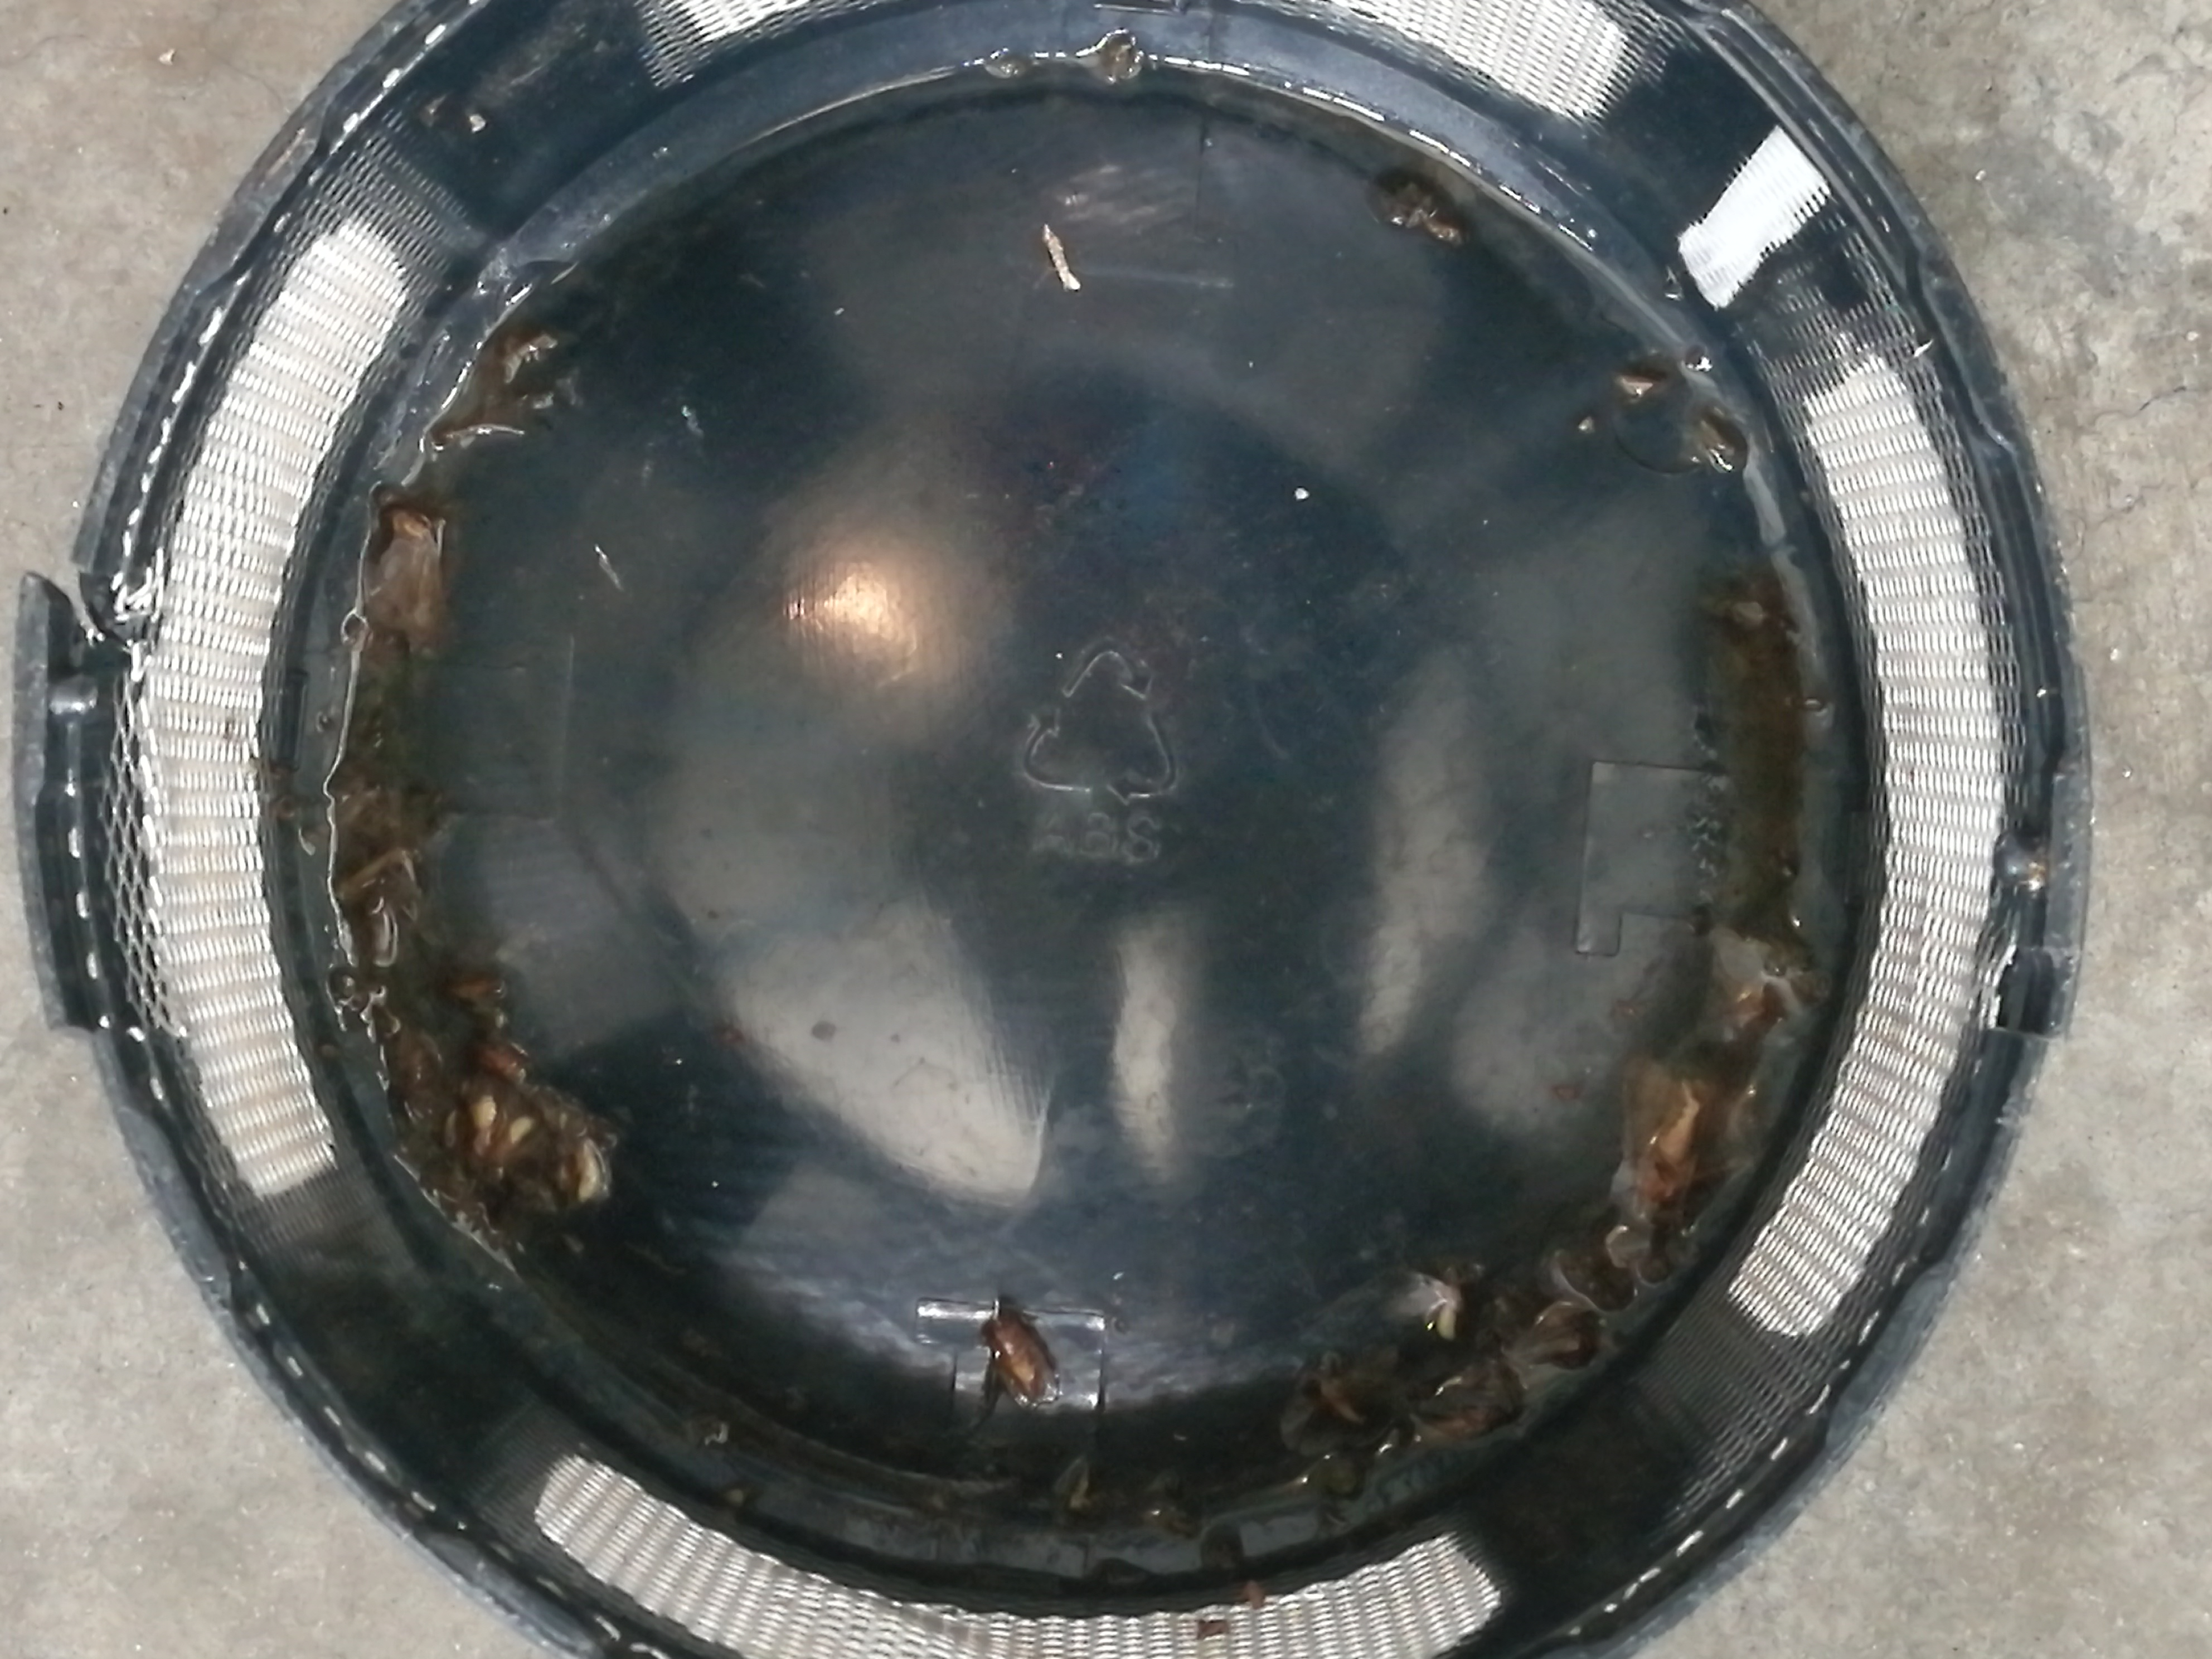moth: (1622, 1058, 1710, 1197), (366, 511, 441, 633), (986, 1310, 1050, 1403)
